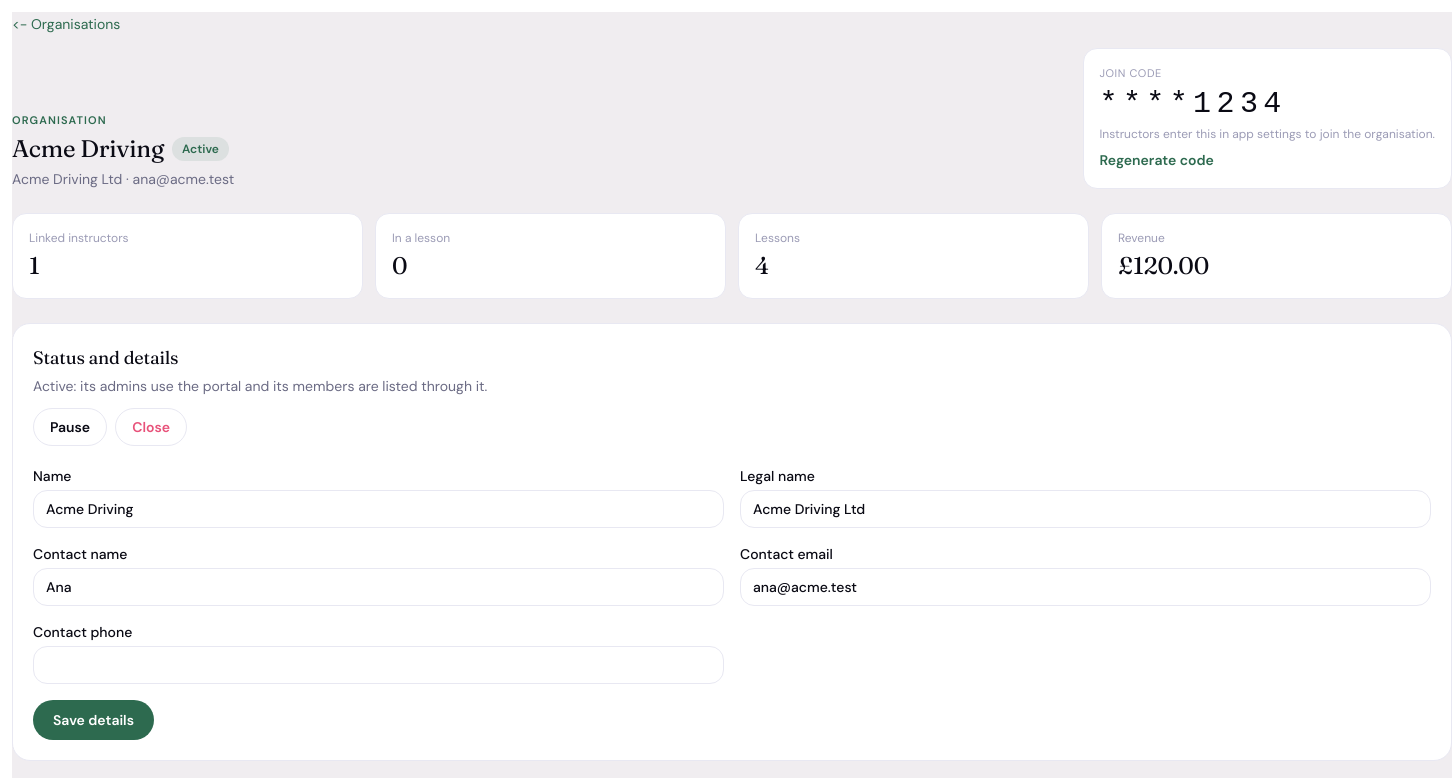
Scenario: ops organisation status and details › pauses the school after confirming
Click the button "Pause" at x=70, y=426, box [33, 408, 107, 446]
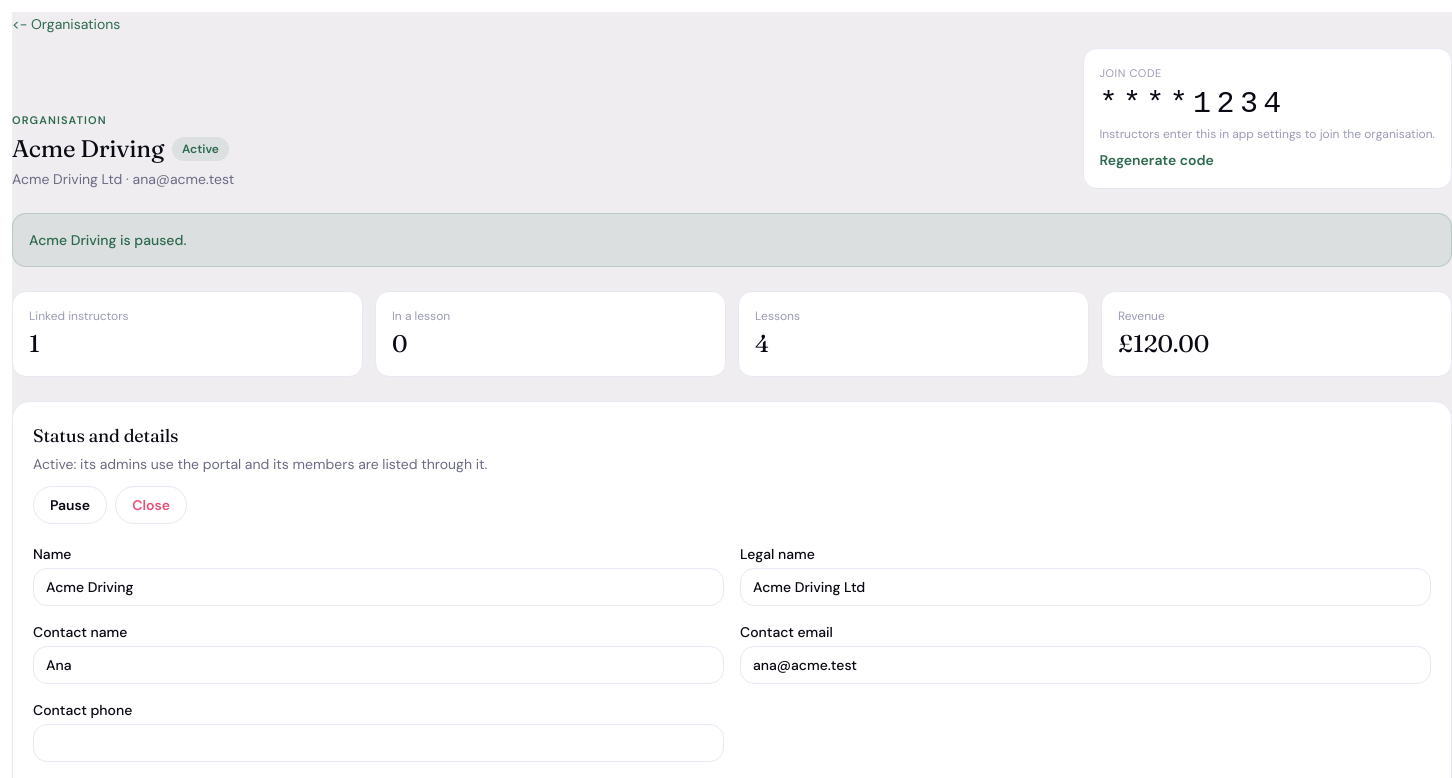
expect the text "Acme Driving is paused." is shown: met, box [12, 212, 1451, 266]
